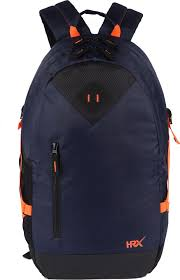backpack: (17, 0, 177, 279)
